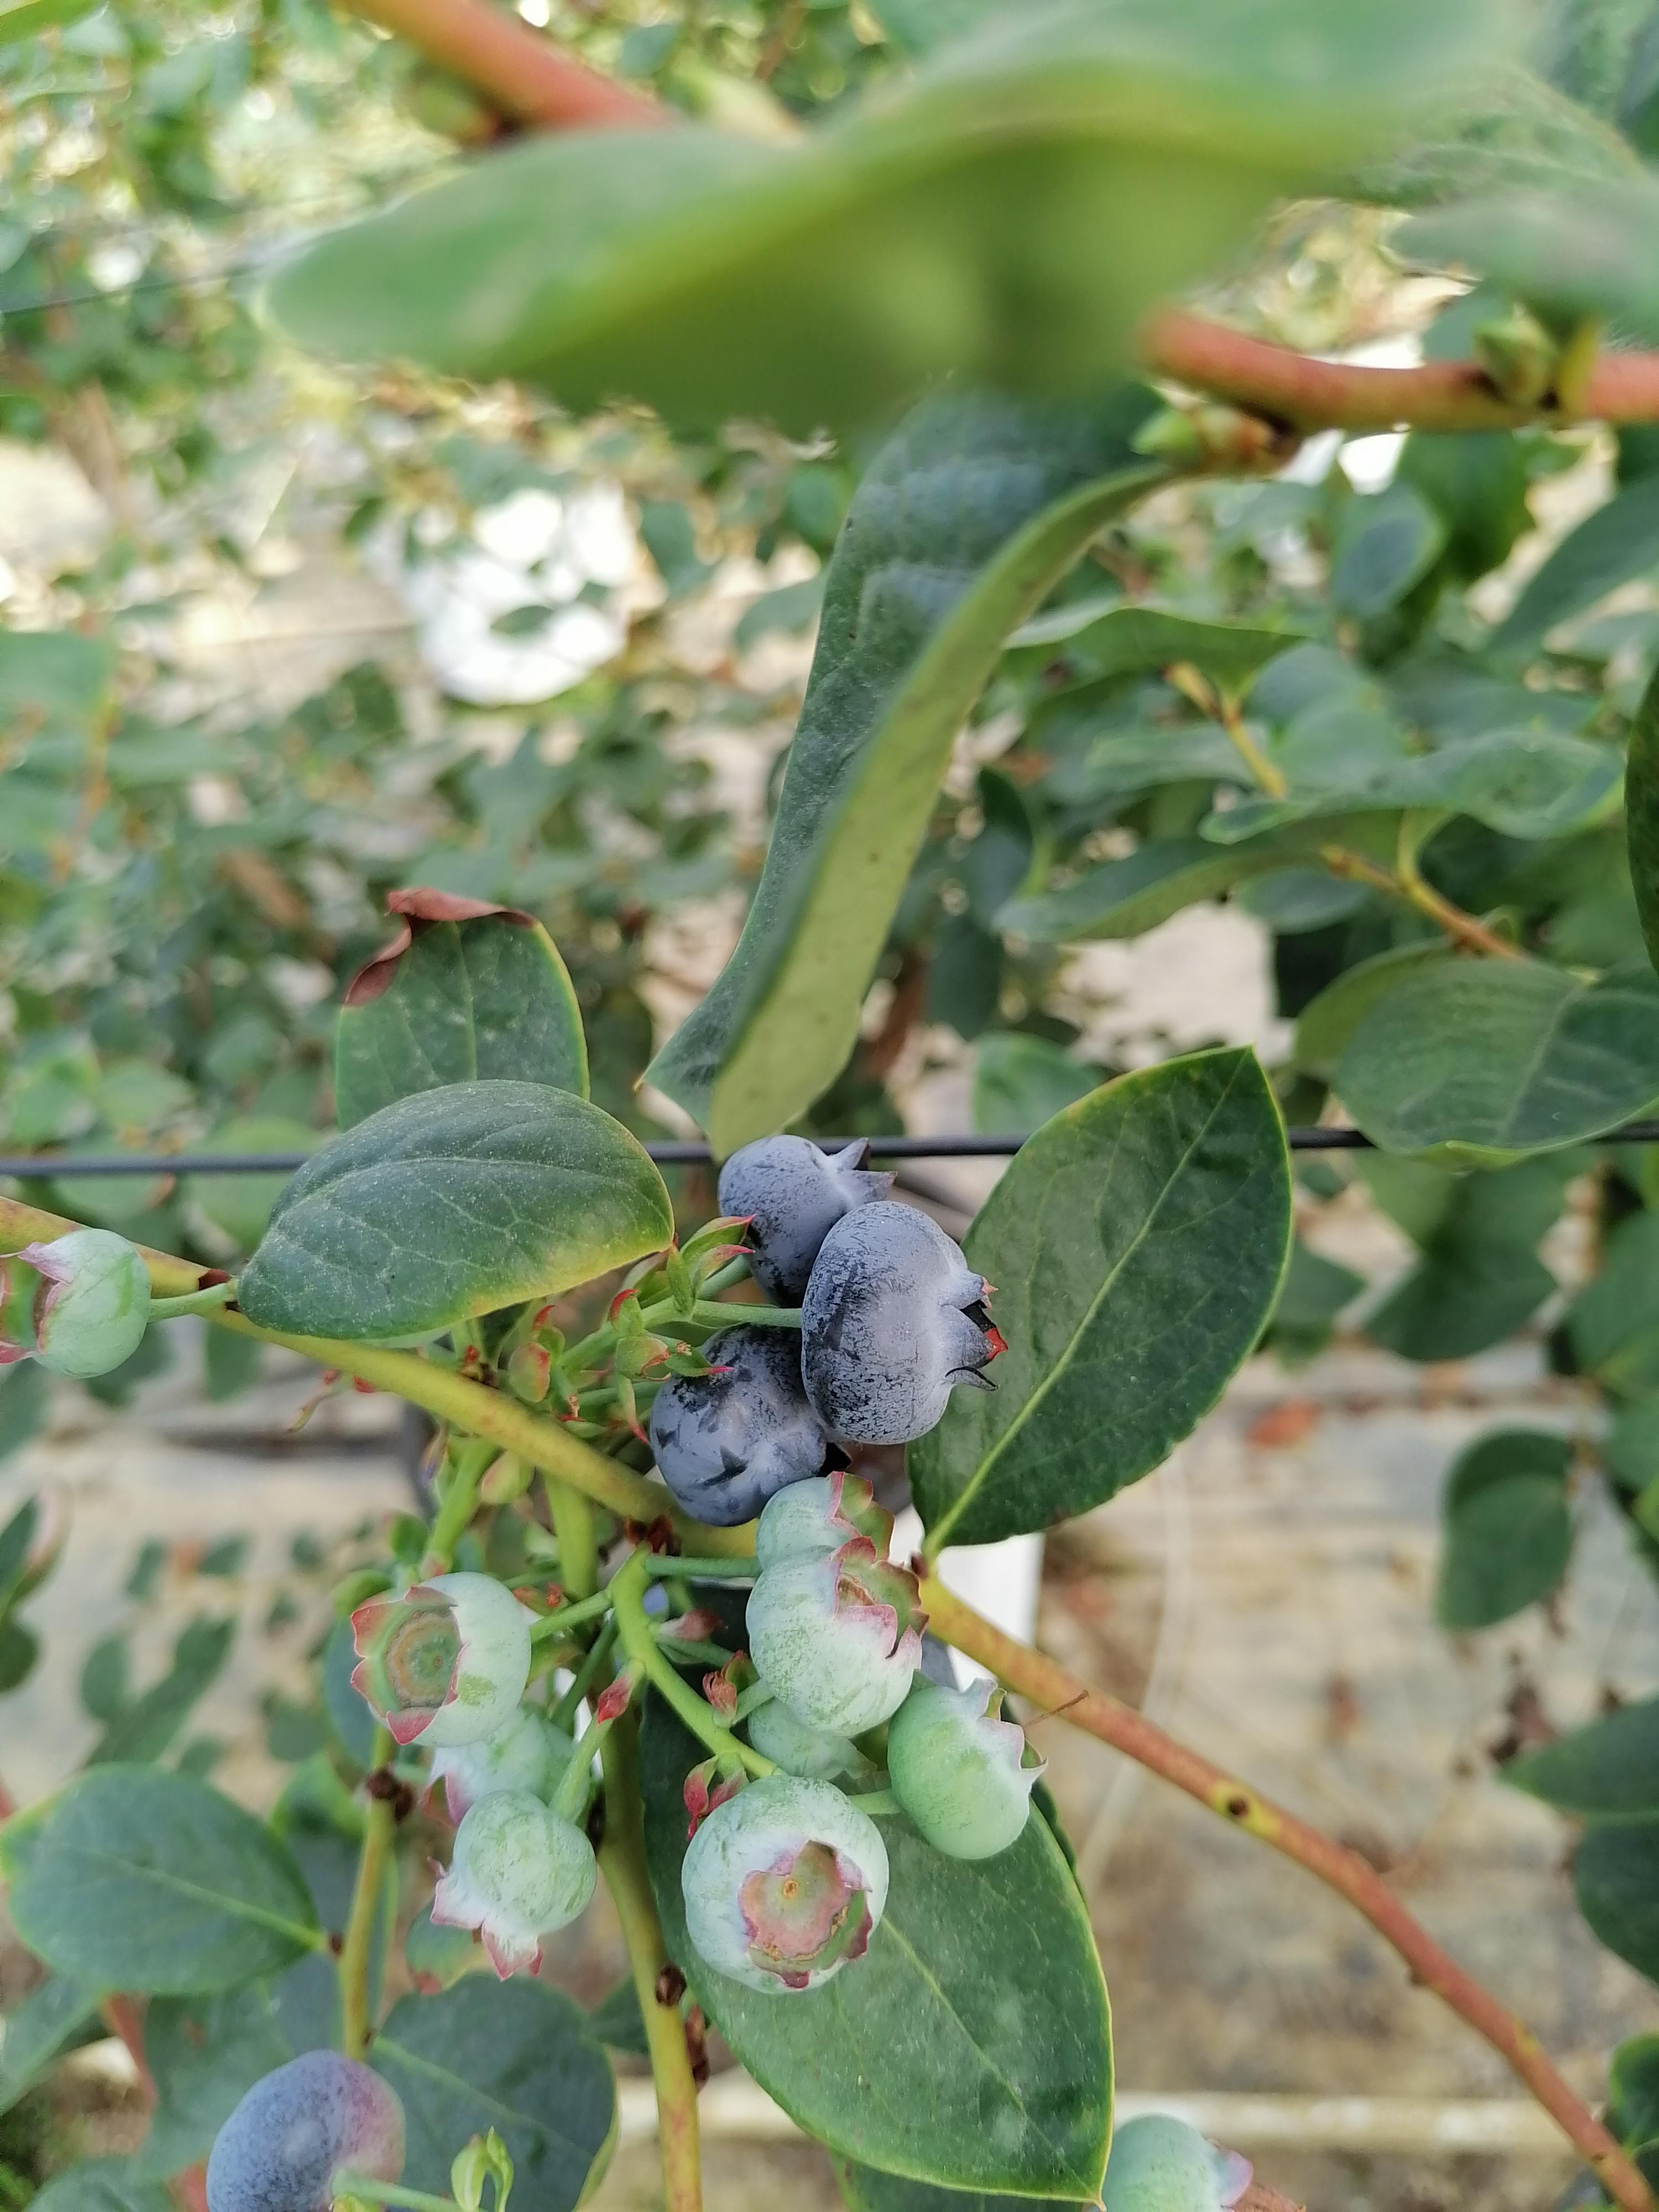ripe-blueberries: (800, 1202, 1004, 1449), (650, 1320, 856, 1527), (204, 2050, 411, 2212), (716, 1132, 899, 1308)
